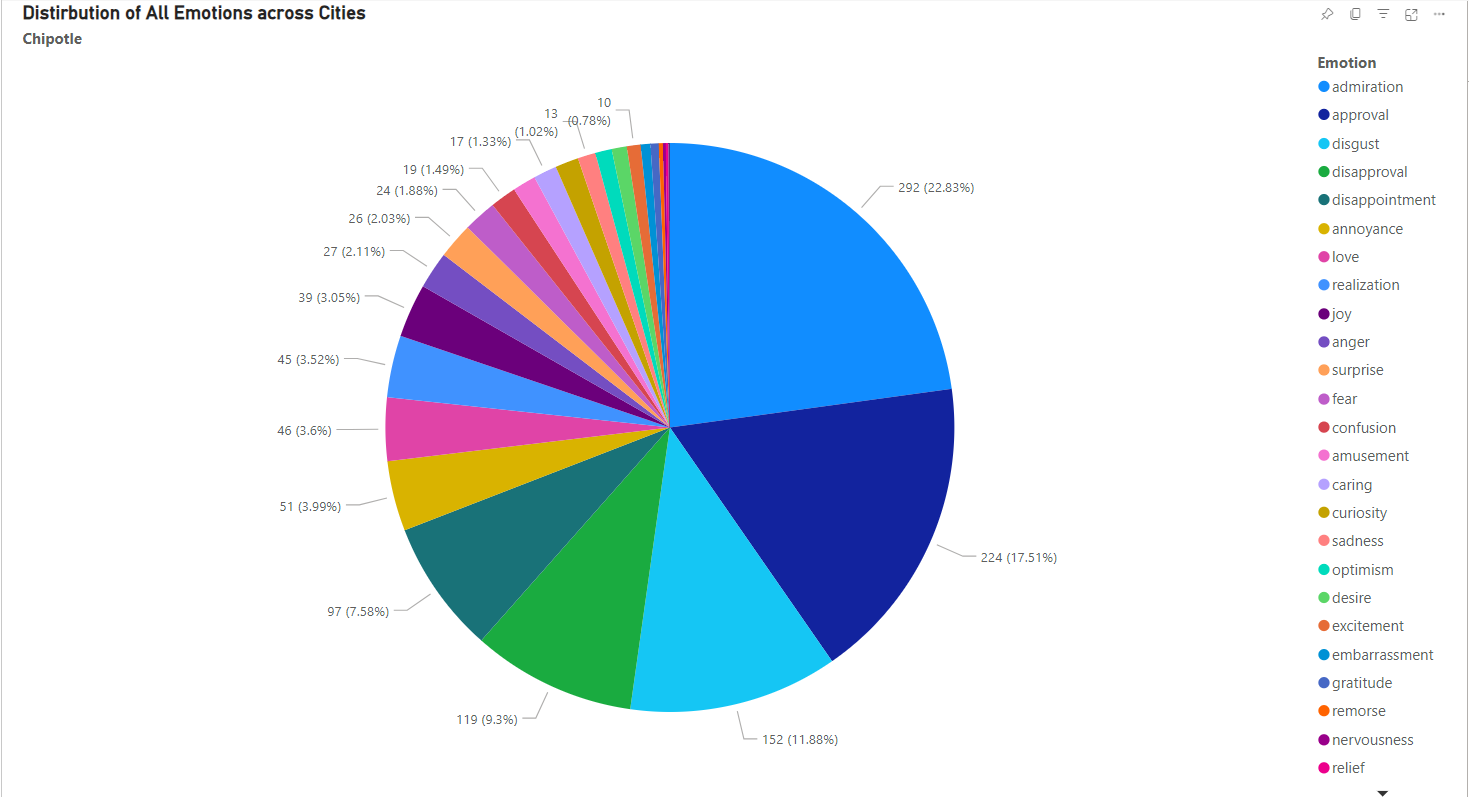

The dashboard page shown, as its layout file describes it:
{"tool":"powerbi","page":{"name":"All Emotions Across All Cities","canvas":[1280,720],"ordinal":3},"visuals":[{"type":"pieChart","title":"Distirbution of All Emotions across Cities","fields":{"Category":["Sentiment_Analysis.Emotion"],"Y":["CountNonNull(Sentiment_Analysis.Store_City)"]},"box":[0,0,1280,720],"z":0}]}

Visuals, with their boxes on the page's 1280x720 design canvas (x1, y1, x2, y2). These are canvas units, not pixel positions in the 1469x797 screenshot, which may show the page scaled, cropped or inside an application window:
"Distirbution of All Emotions across Cities" pieChart: 0,0,1280,720
